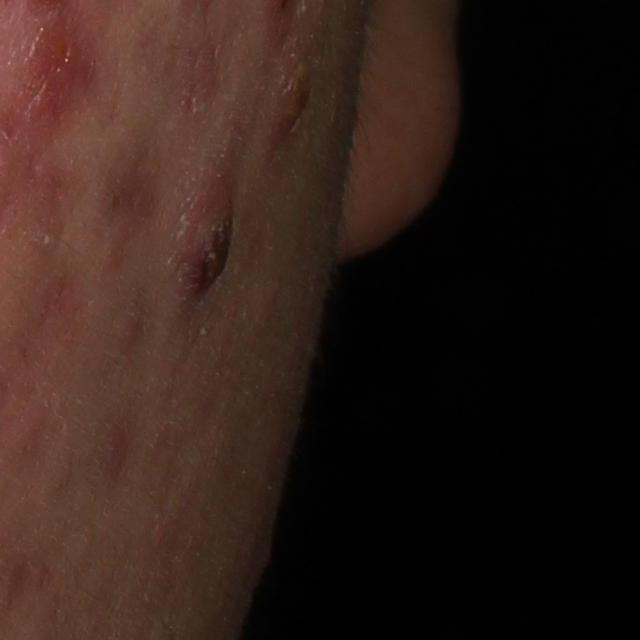nodule: (156, 142, 241, 363)
papule: (270, 25, 319, 150)
